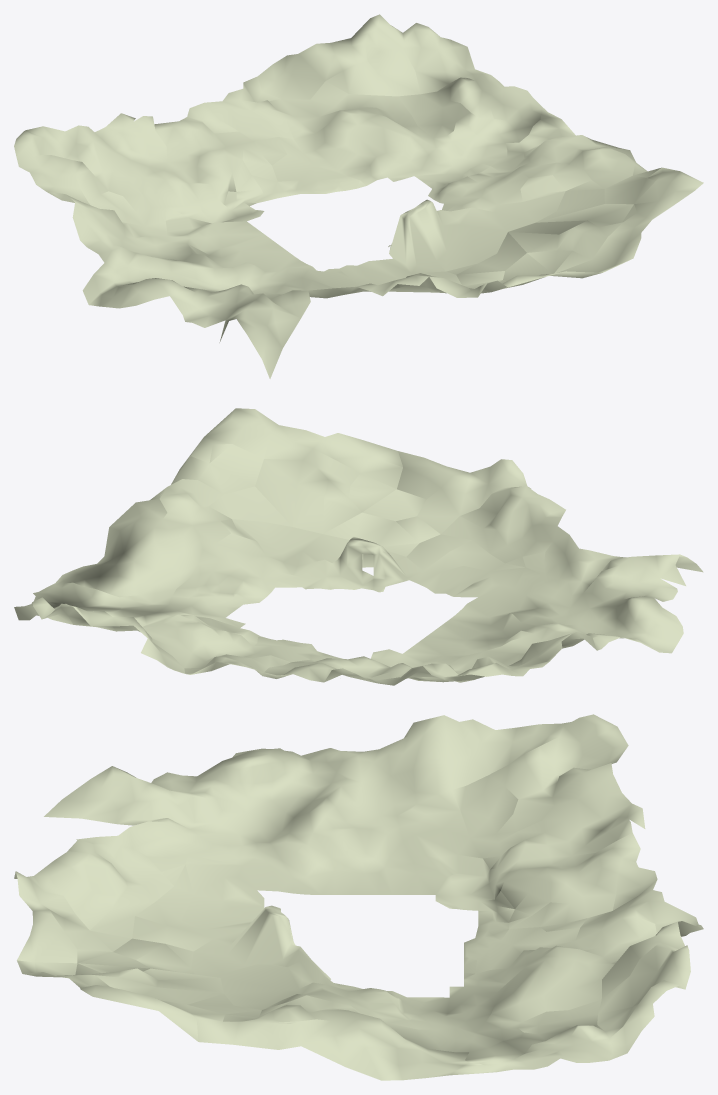
The picture shows the model from 3 angles, top to bottom: view 1: azimuth 30°, elevation 25°; view 2: azimuth 150°, elevation 25°; view 3: azimuth 270°, elevation 25°; orthographic projection. The views are drawn at different scales.
Visible parts, largest first — view 1: Bf01g_dx_outside; view 2: Bf01g_dx_outside; view 3: Bf01g_dx_outside.
Boxes of the visible parts, x1,y1,x2,y2 form: Bf01g_dx_outside: (14,14,703,378); Bf01g_dx_outside: (14,408,703,685); Bf01g_dx_outside: (14,714,703,1080).
Size of the model in its own units: 893 by 130 by 813.
